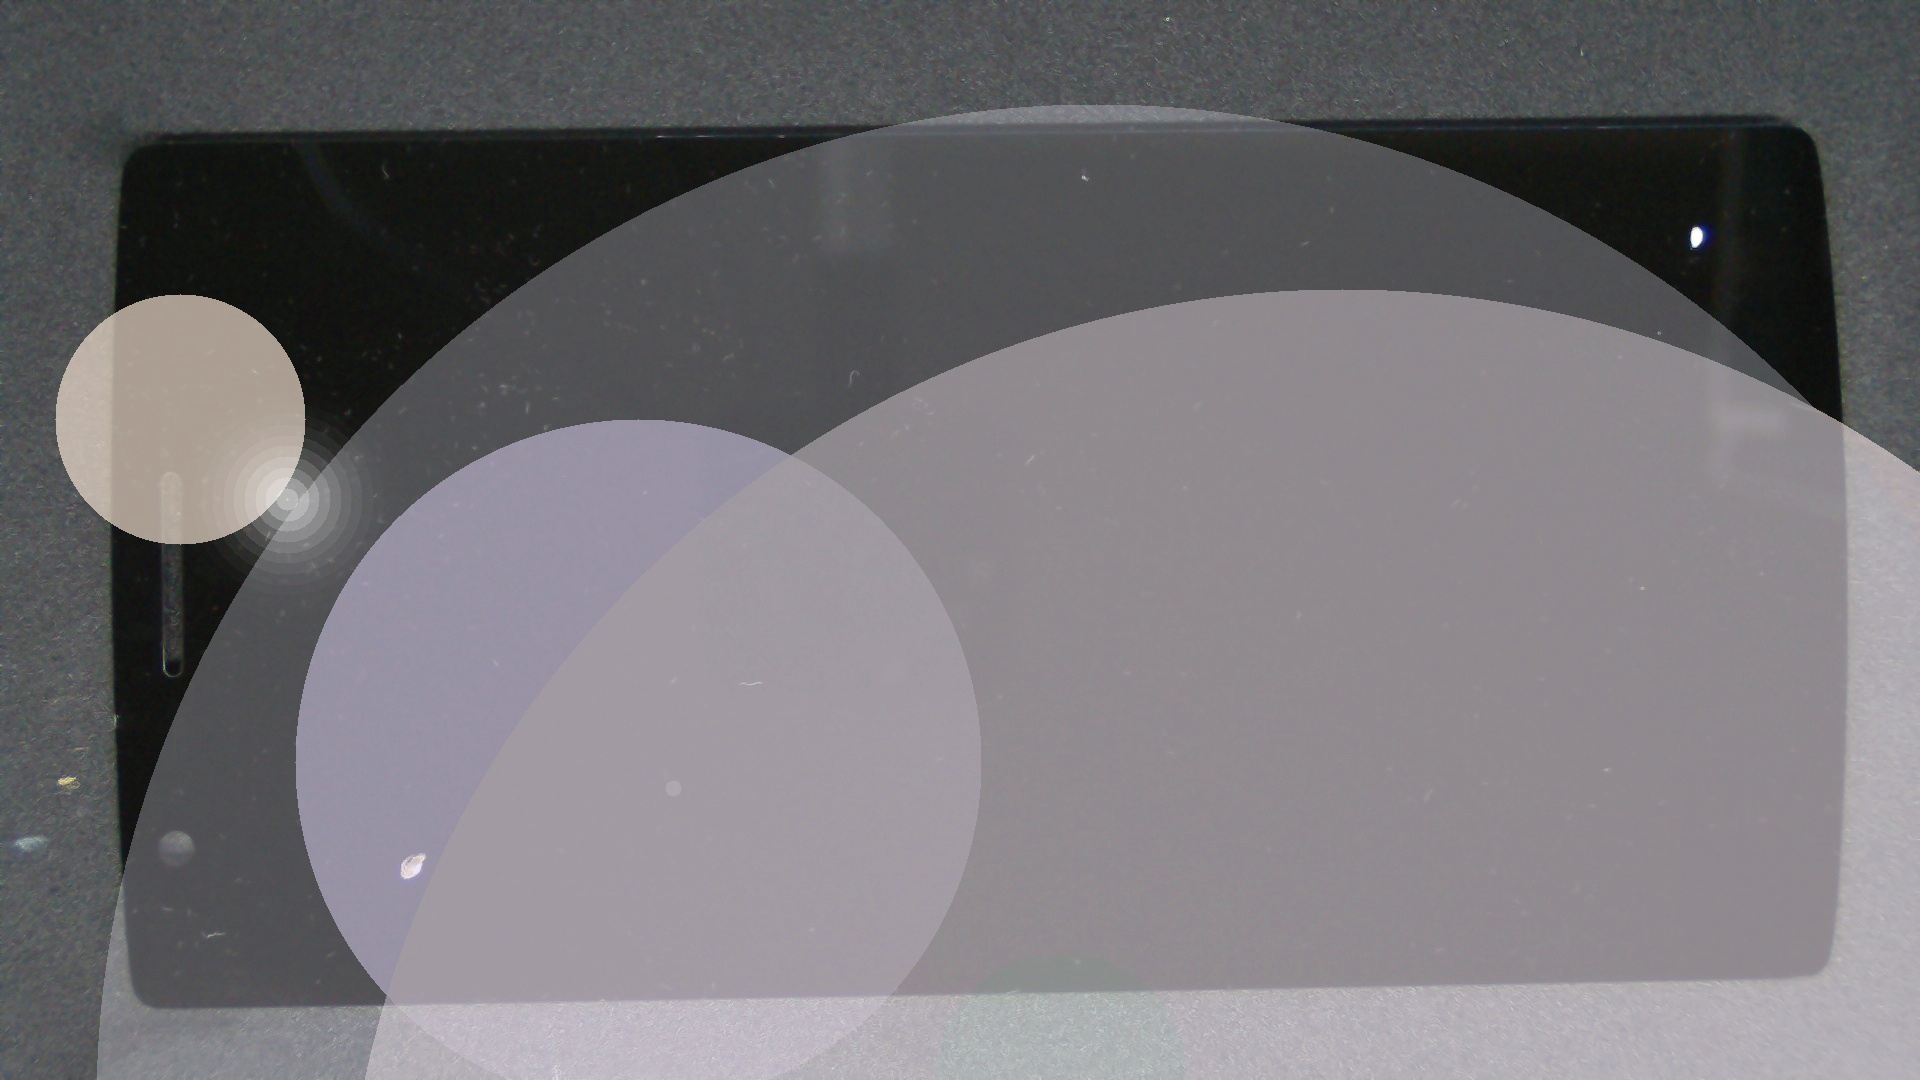oil: (211, 425, 629, 1080), (847, 112, 1920, 339)
